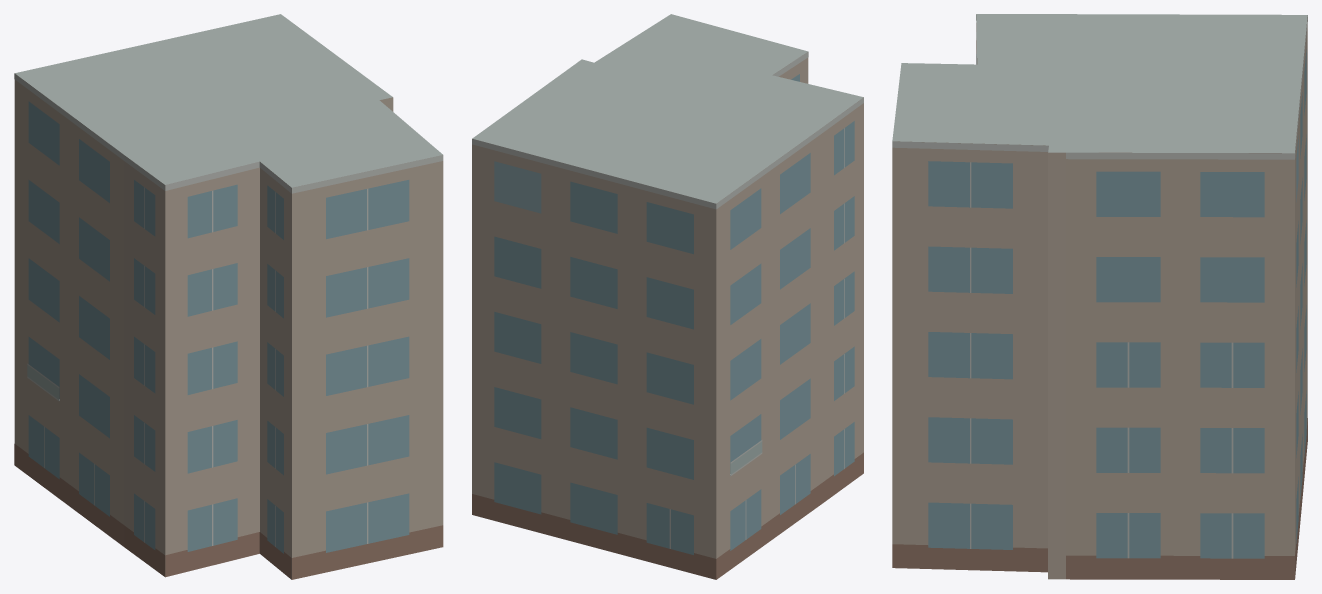
The model's file is survey-upis-32881996.glb.
3 views of the same model, side by side, from view 1: azimuth 30°, elevation 25°; view 2: azimuth 150°, elevation 25°; view 3: azimuth 270°, elevation 25° (orthographic). The views are drawn at different scales.
Visible parts, largest first — view 1: survey-upis-32881996.tmp; view 2: survey-upis-32881996.tmp; view 3: survey-upis-32881996.tmp.
Boxes of the visible parts, bbox=[...] form: survey-upis-32881996.tmp: bbox=[14, 14, 443, 579]; survey-upis-32881996.tmp: bbox=[472, 14, 863, 579]; survey-upis-32881996.tmp: bbox=[892, 14, 1307, 579].
Bounding box in the file's own units: 11.2 × 16 × 14.13.
